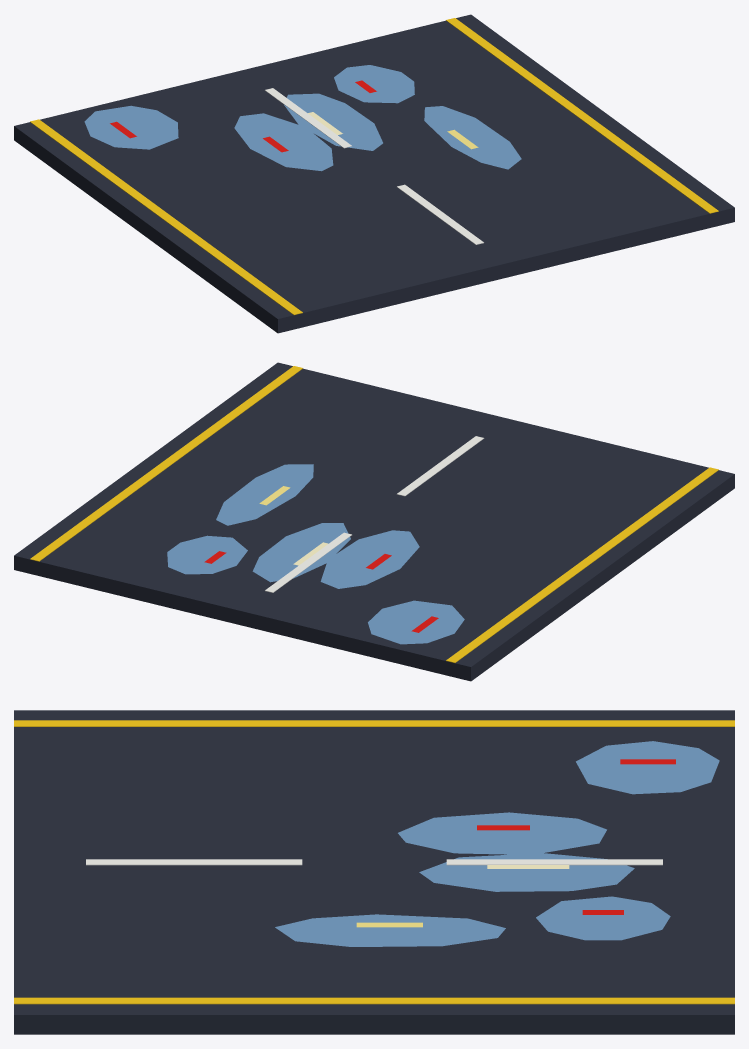
The model's file is env_road_straight_wet.fbx.
The picture shows the model from 3 angles, top to bottom: view 1: azimuth 30°, elevation 25°; view 2: azimuth 150°, elevation 25°; view 3: azimuth 270°, elevation 25°; orthographic projection. The views are drawn at different scales.
Parts seen in each view (by area): view 1: env_road_straight_wet_geo; view 2: env_road_straight_wet_geo; view 3: env_road_straight_wet_geo.
Boxes of the visible parts, x1,y1,x2,y2 form: env_road_straight_wet_geo: (14, 14, 734, 333); env_road_straight_wet_geo: (14, 362, 734, 681); env_road_straight_wet_geo: (14, 710, 734, 1034).
Size of the model in its own units: 10 by 0.312 by 10.
